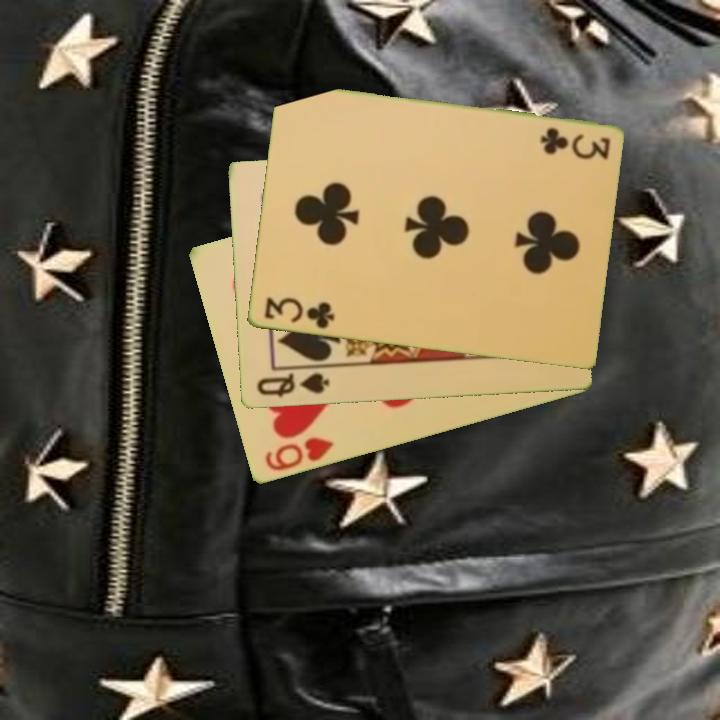3c: (260, 294, 337, 332), (536, 124, 613, 161)
6h: (261, 434, 337, 475)
Qs: (253, 370, 332, 401)
